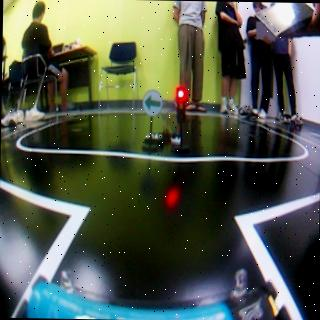left: (140, 90, 162, 116)
red: (173, 84, 186, 153)
